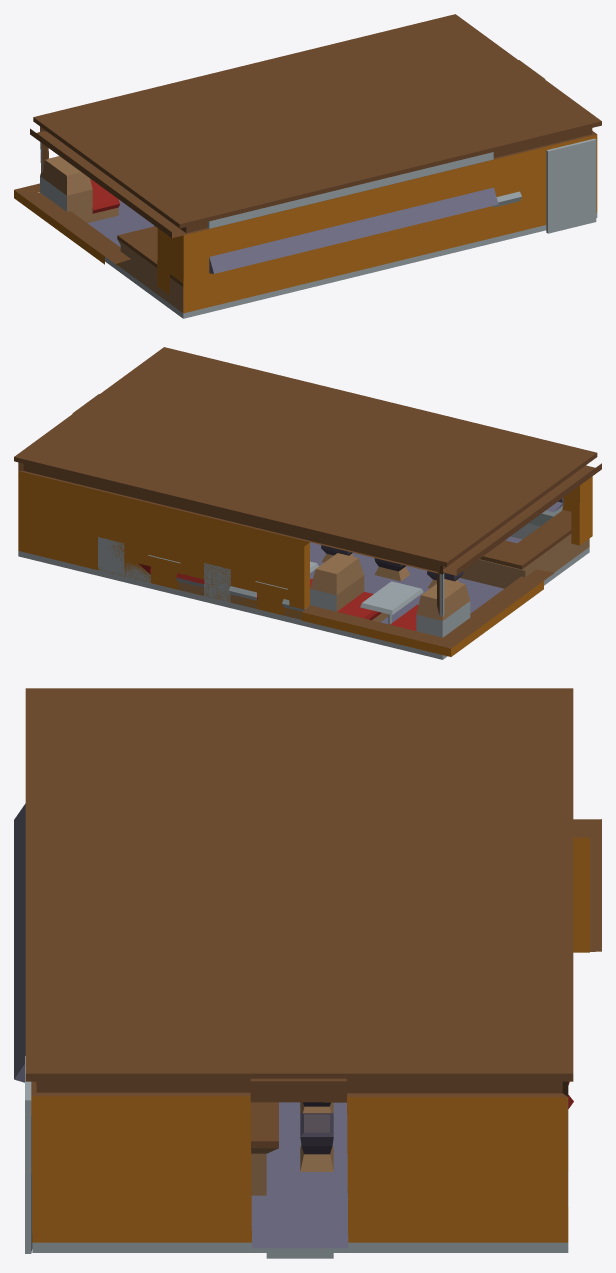
File: foodFloor4.fbx
3 views of the same model, one above another, from view 1: azimuth 30°, elevation 25°; view 2: azimuth 150°, elevation 25°; view 3: azimuth 270°, elevation 25° (orthographic). The views are drawn at different scales.
Parts seen in each view (by area): view 1: Cube; view 2: Cube; view 3: Cube.
Part boxes in pixels (x1,y1,x2,y2): Cube: (14, 14, 601, 318); Cube: (14, 347, 601, 659); Cube: (14, 688, 601, 1258).
Bounding box in the file's own units: 2113 × 458 × 1316.
